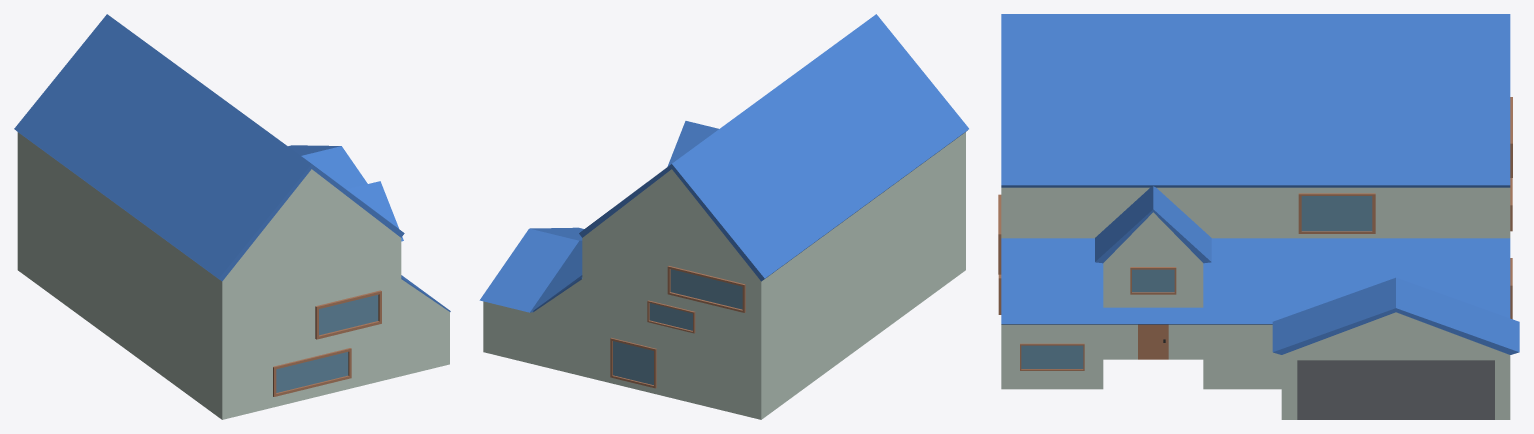
File: House2.fbx
The picture shows the model from 3 angles, left to right: view 1: azimuth 30°, elevation 25°; view 2: azimuth 150°, elevation 25°; view 3: azimuth 270°, elevation 25°; orthographic projection. The views are drawn at different scales.
Visible parts, largest first — view 1: House; view 2: House; view 3: House.
Part boxes in pixels (x1,y1,x2,y2): House: (14, 14, 450, 419); House: (479, 14, 968, 419); House: (998, 14, 1519, 419).
Size of the model in its own units: 1121 by 891 by 1444.
